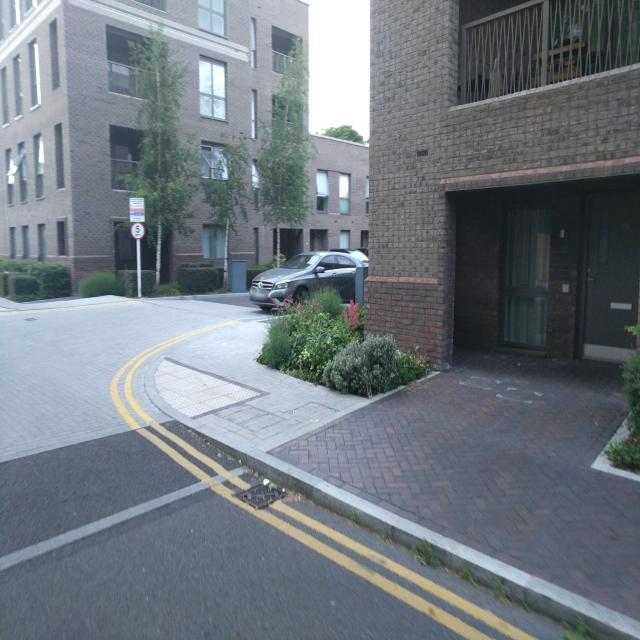car: (249, 250, 368, 316)
